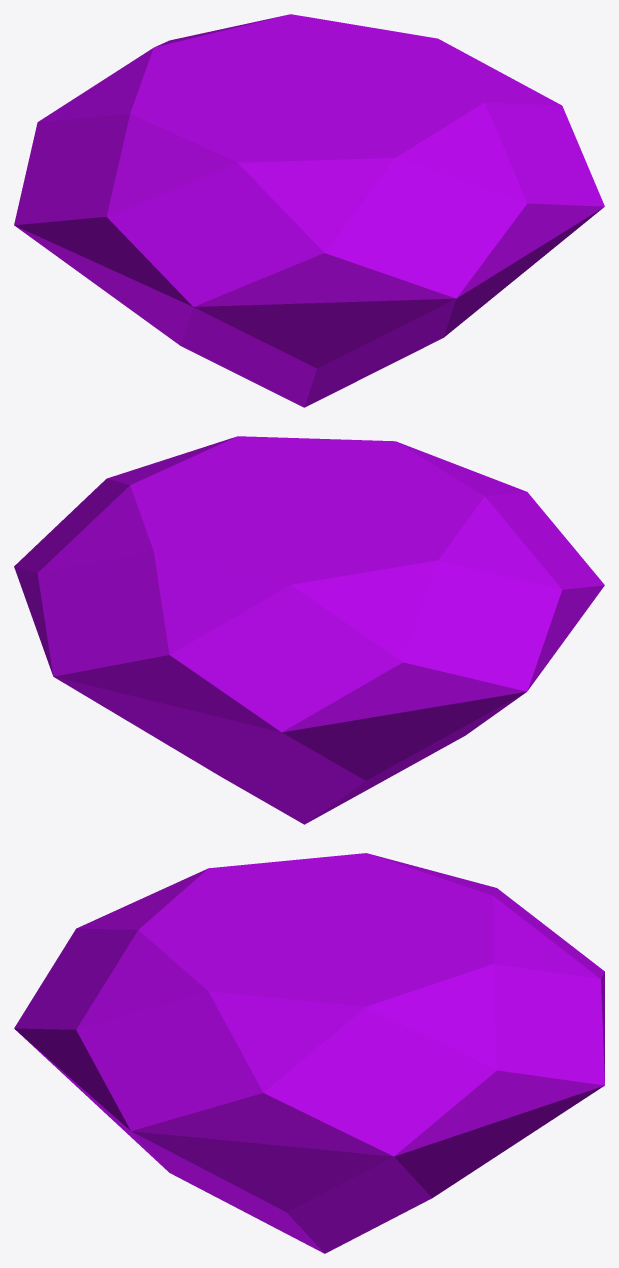
The model's file is gem.fbx.
3 views of the same model, one above another, from view 1: azimuth 30°, elevation 25°; view 2: azimuth 150°, elevation 25°; view 3: azimuth 270°, elevation 25° (orthographic). The views are drawn at different scales.
Visible parts, largest first — view 1: Gem; view 2: Gem; view 3: Gem.
Part boxes in pixels (x1=…): Gem: x1=14, y1=14, x2=604, y2=407; Gem: x1=14, y1=436, x2=604, y2=824; Gem: x1=14, y1=853, x2=604, y2=1253.
Bounding box in the file's own units: 195 × 115 × 190.
